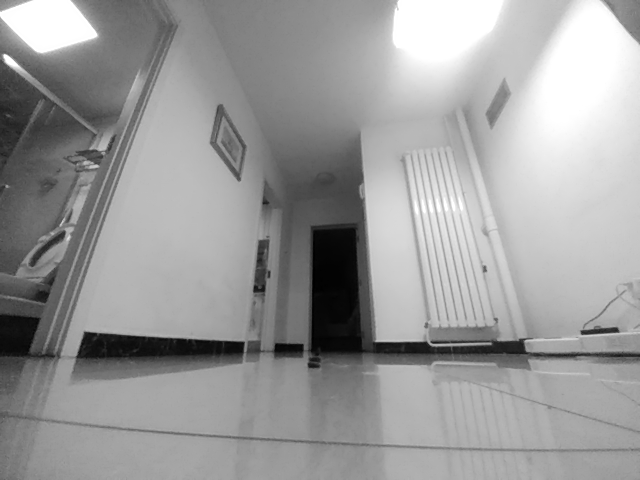pet feces: (308, 354, 321, 368)
